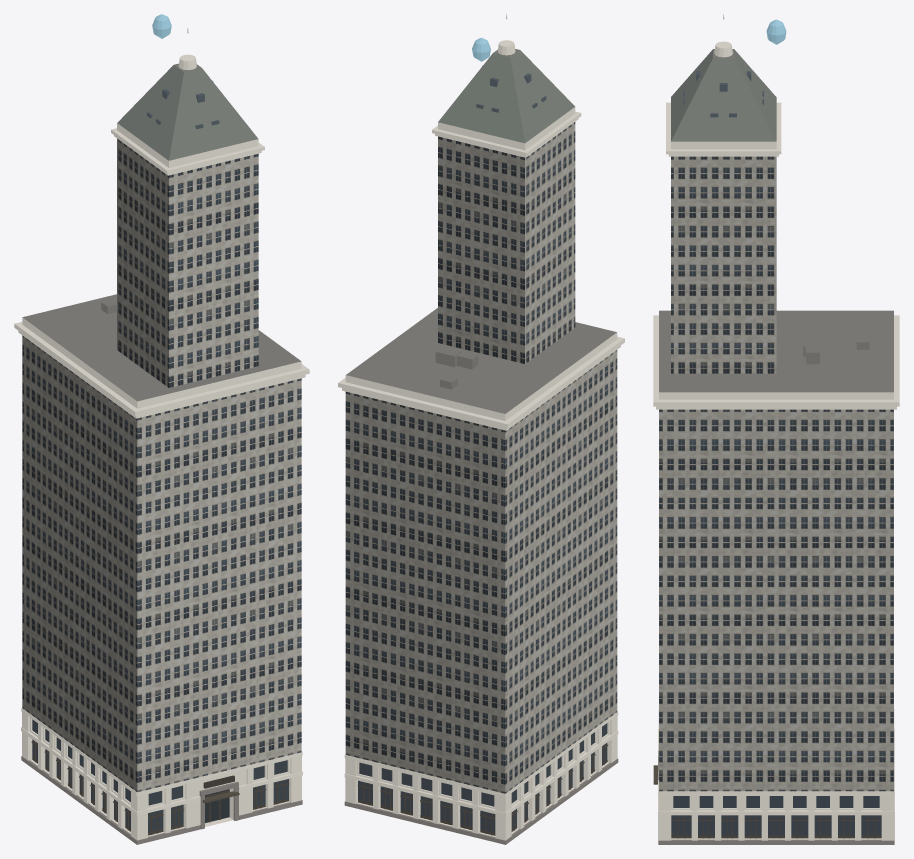
Rendered from smith_tower.glb.
The picture shows the model from 3 angles, left to right: view 1: azimuth 30°, elevation 25°; view 2: azimuth 150°, elevation 25°; view 3: azimuth 270°, elevation 25°; orthographic projection. The views are drawn at different scales.
Parts seen in each view (by area): view 1: smith_tower; view 2: smith_tower; view 3: smith_tower.
Boxes of the visible parts, x1,y1,x2,y2 form: smith_tower: (14, 14, 309, 844); smith_tower: (338, 14, 624, 844); smith_tower: (653, 14, 899, 844).
Bounding box in the file's own units: 35 × 148 × 42.
2 materials, 2 textured.
